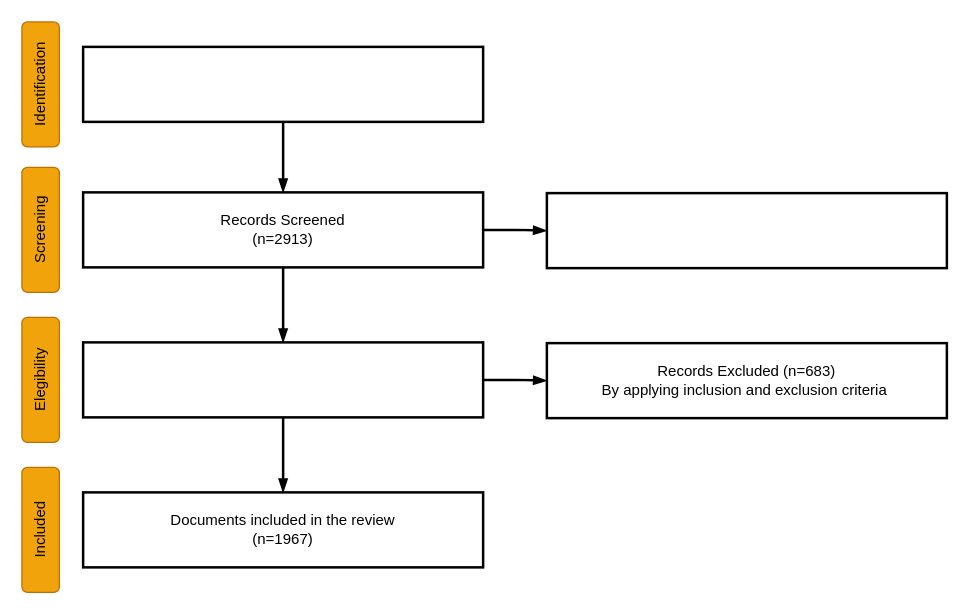
Some shapes in this 970 by 615 pixel diagram are drawn without their labels. Each missing label, with the centre of its shape:
Documents assessed for eligibility (n=2650): point 282,379
Records Excluded (n=263) Pre-2016=203, Errata=44, Retracted=14, Data papers=2: point 746,230
Records identified through database searching (n=2913): point 282,83
